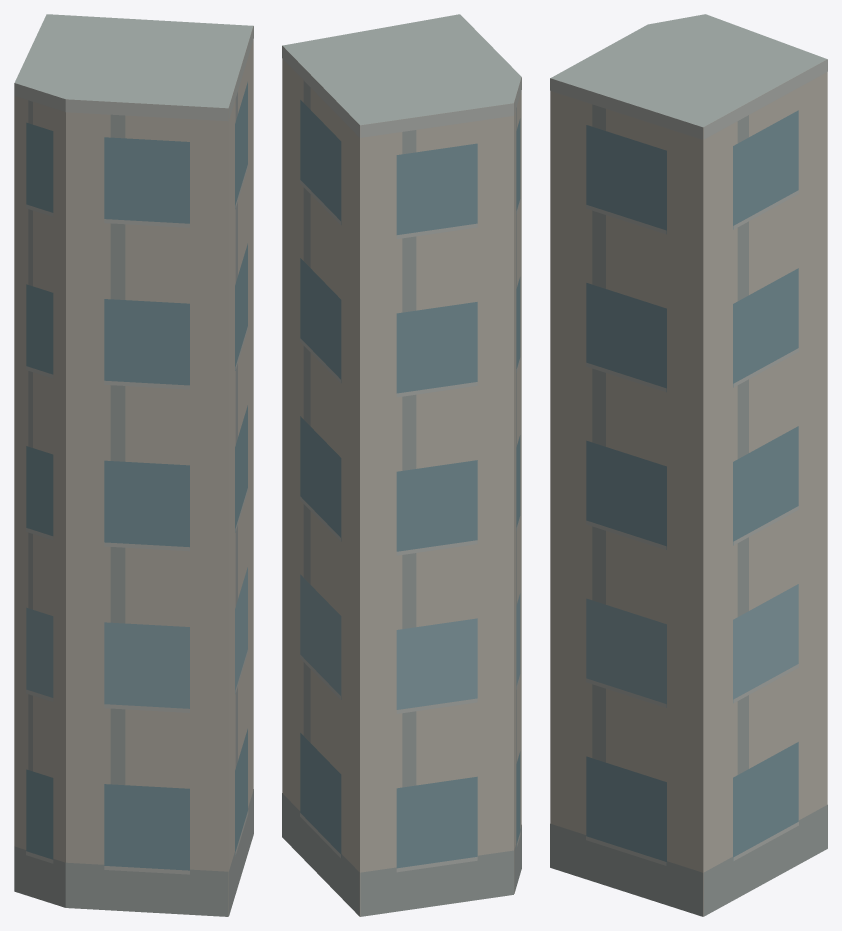
Rendered from survey-upis-32634828.glb.
3 views of the same model, side by side, from view 1: azimuth 30°, elevation 25°; view 2: azimuth 150°, elevation 25°; view 3: azimuth 270°, elevation 25° (orthographic). The views are drawn at different scales.
Parts seen in each view (by area): view 1: survey-upis-32634828.tmp; view 2: survey-upis-32634828.tmp; view 3: survey-upis-32634828.tmp.
Boxes of the visible parts, x1,y1,x2,y2 form: survey-upis-32634828.tmp: (14,14,253,916); survey-upis-32634828.tmp: (282,14,521,916); survey-upis-32634828.tmp: (550,14,827,916).
Bounding box in the file's own units: 4.7 × 15.25 × 4.86.
